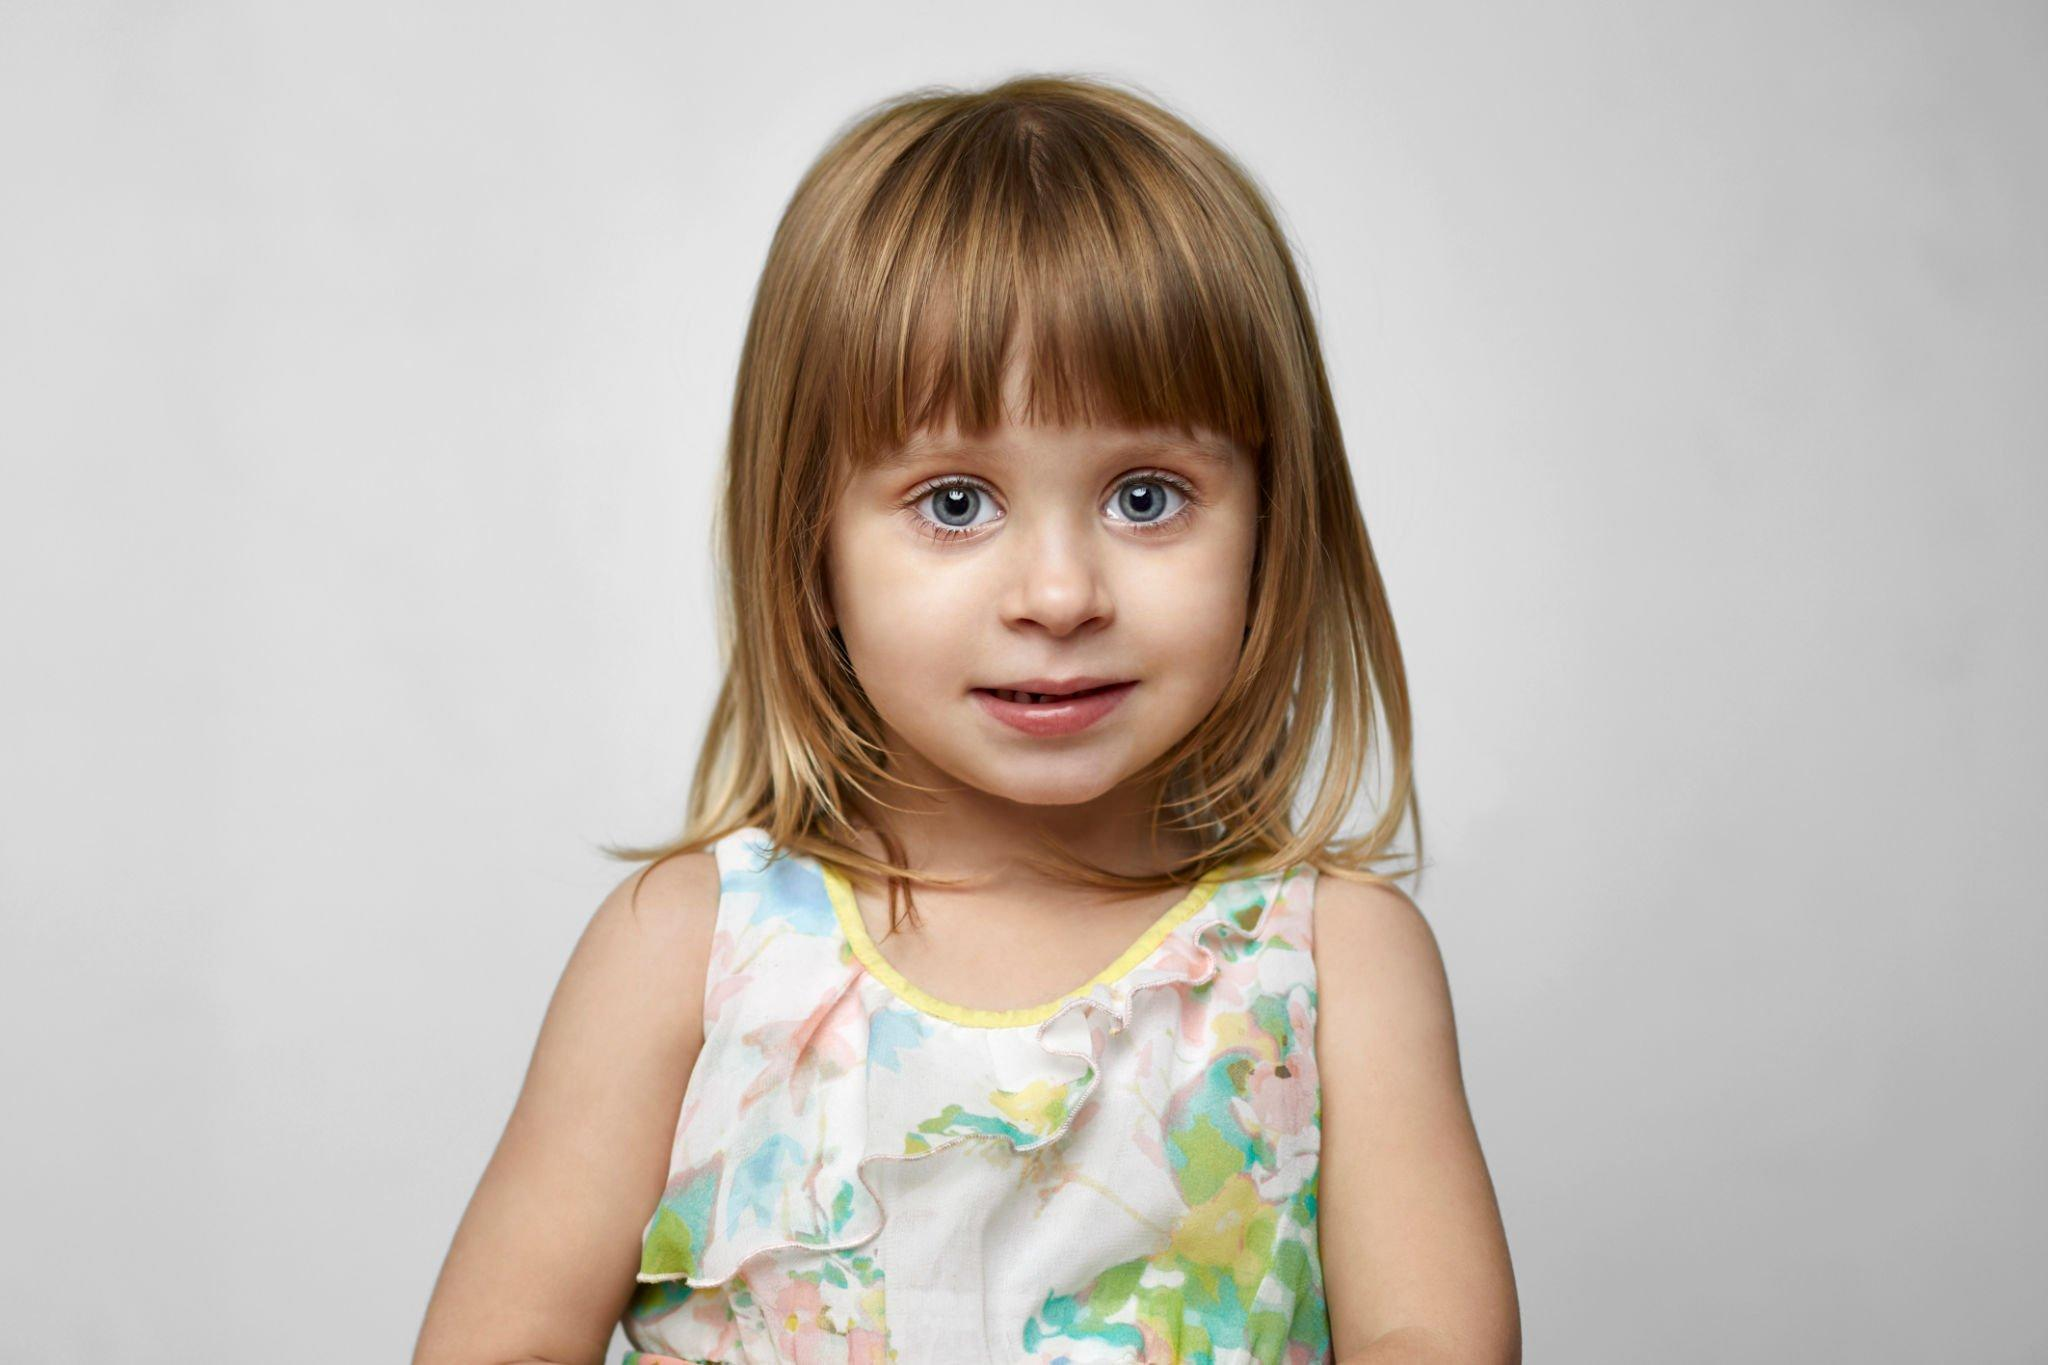Healthy: (752, 192, 1290, 896)
